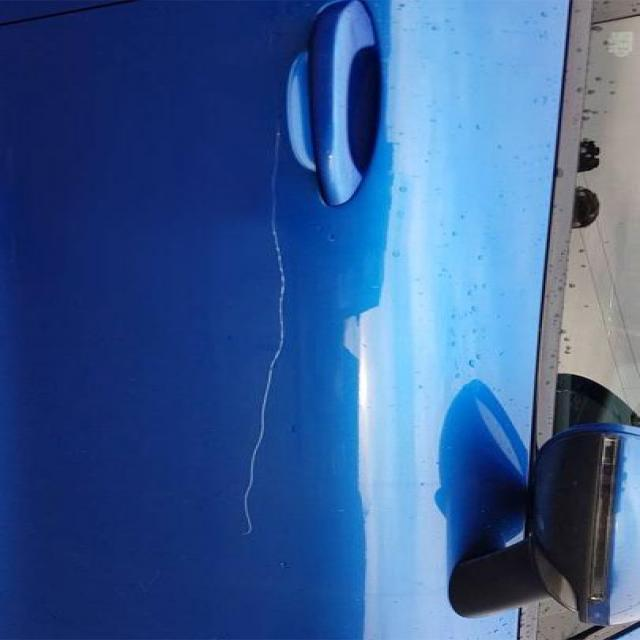scratch: (232, 118, 294, 561)
